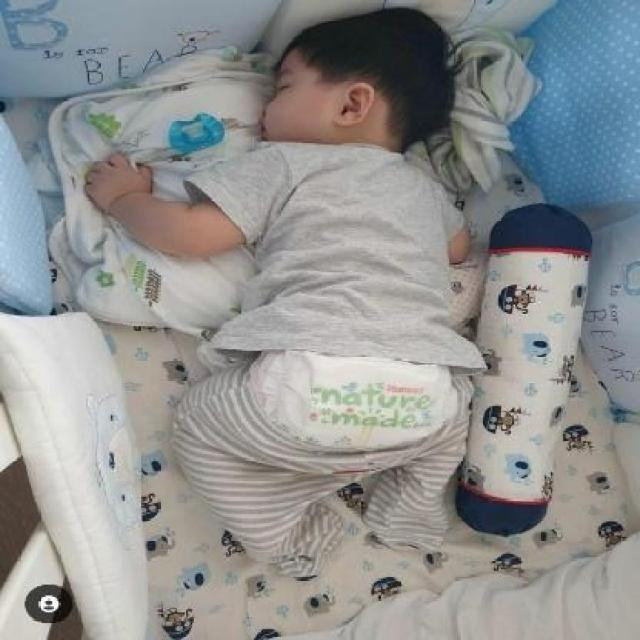baby: (83, 7, 479, 556)
